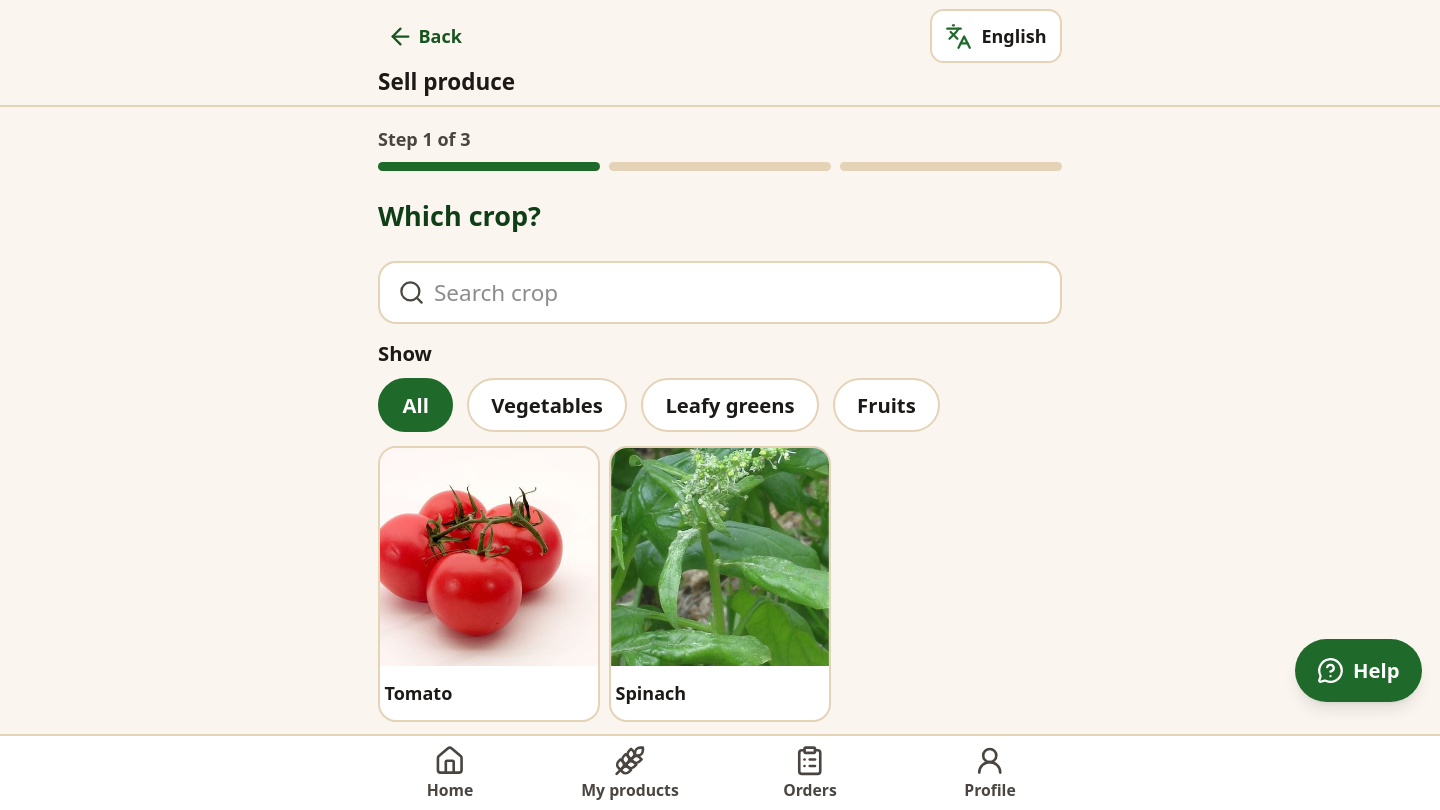
Test case: Sell flow › warns when the price is very different from the last price for the crop
Click the button "Tomato": (489, 584) x1=378 y1=446 x2=600 y2=722
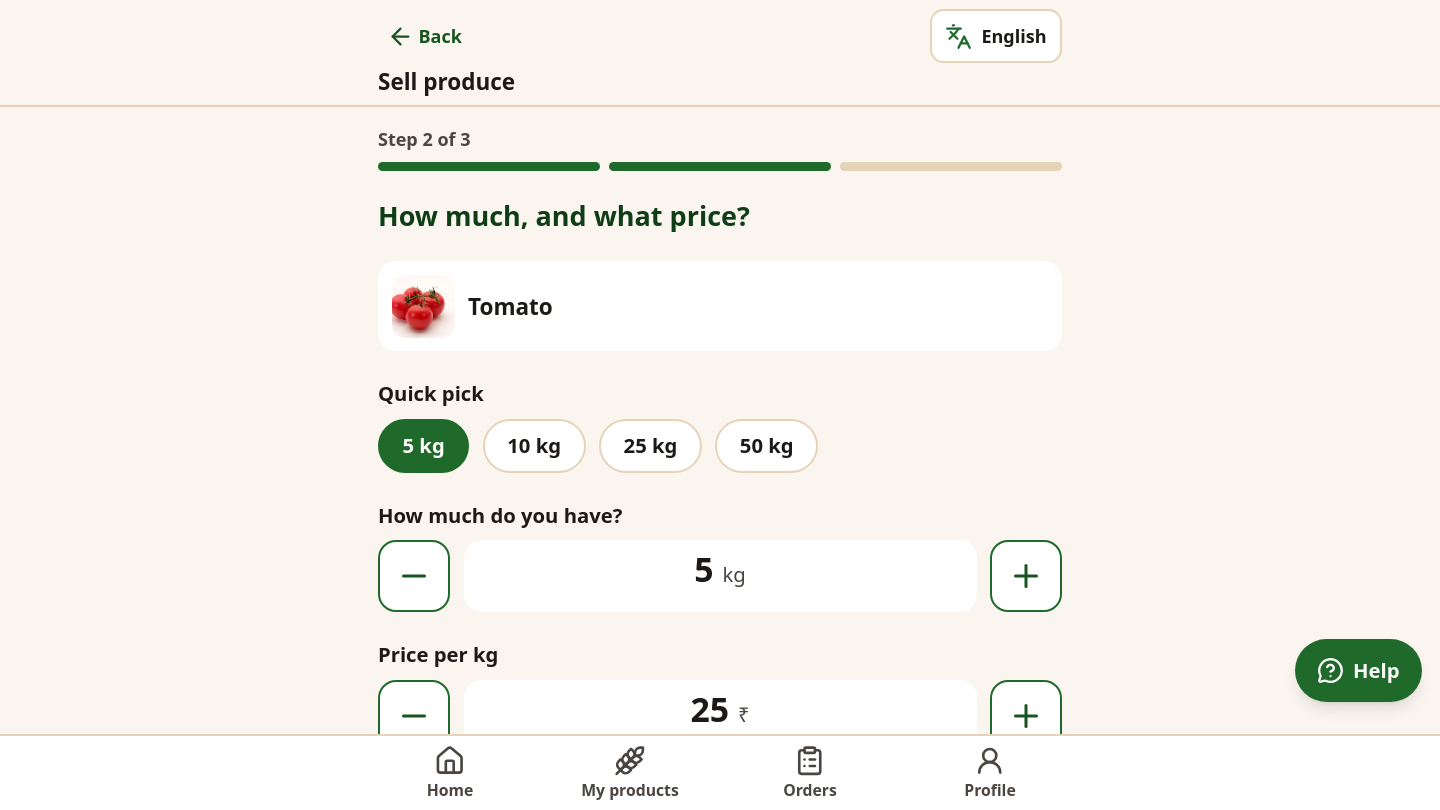
Expected: the text "very different" is not shown
Click the radio button labelled "10 kg": (534, 446) x1=483 y1=419 x2=586 y2=473
(page scrolled)
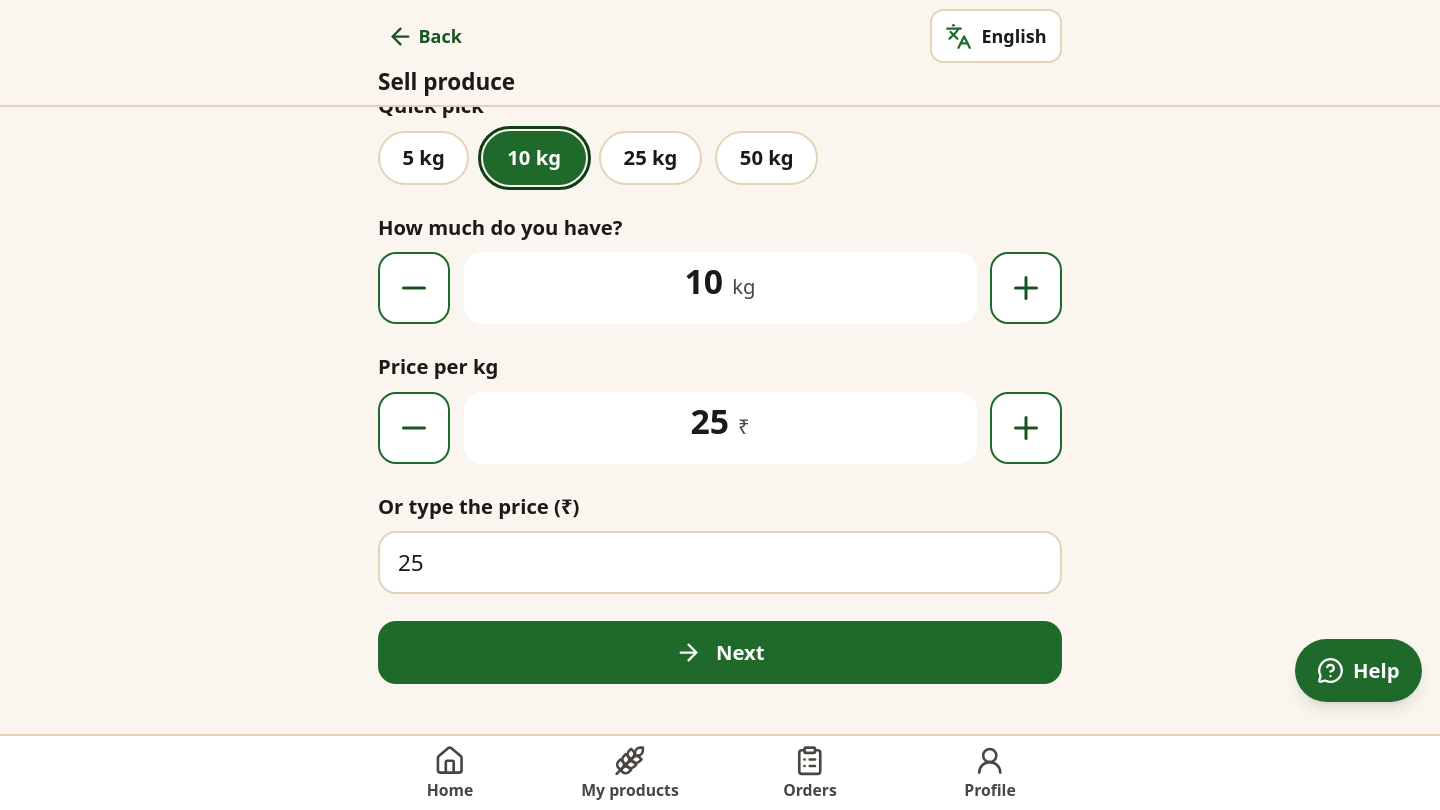
Replace the text in the field labelled "Or type the price (₹)" with "250": (720, 563) x1=380 y1=534 x2=1060 y2=592
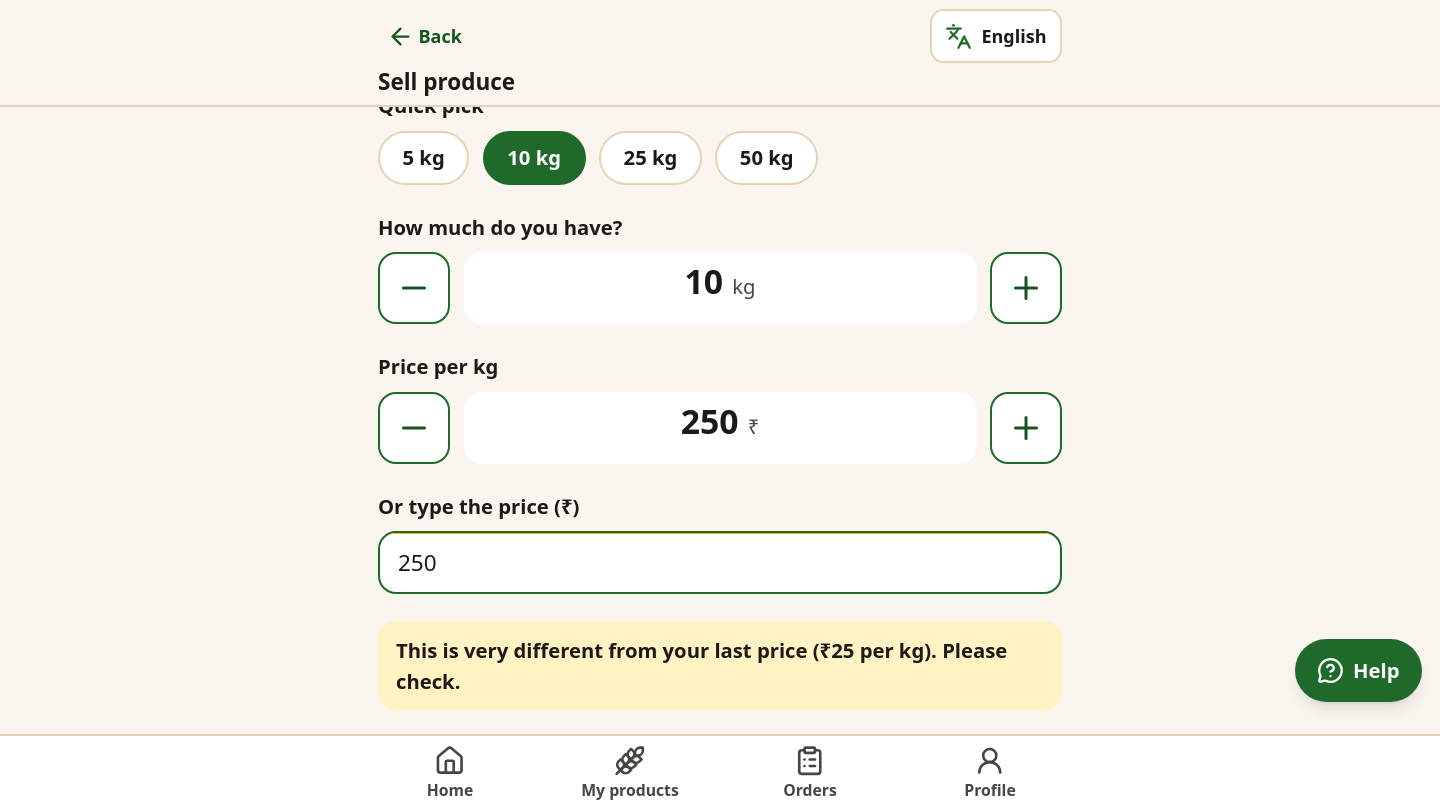
Expected: the text "This is very different from your last price (₹25 per kg). Please check." is shown, x1=378 y1=621 x2=1062 y2=711
